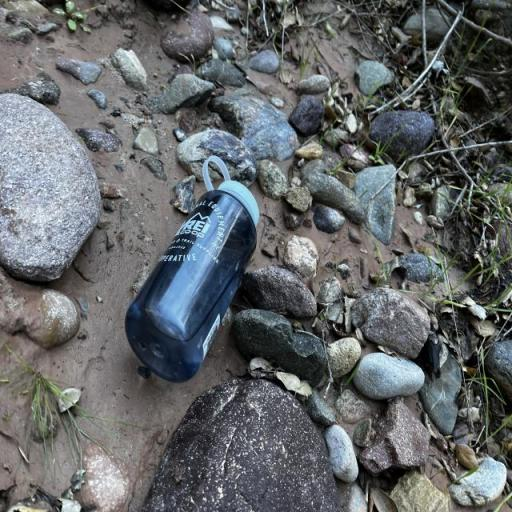bottle: (122, 148, 272, 402)
